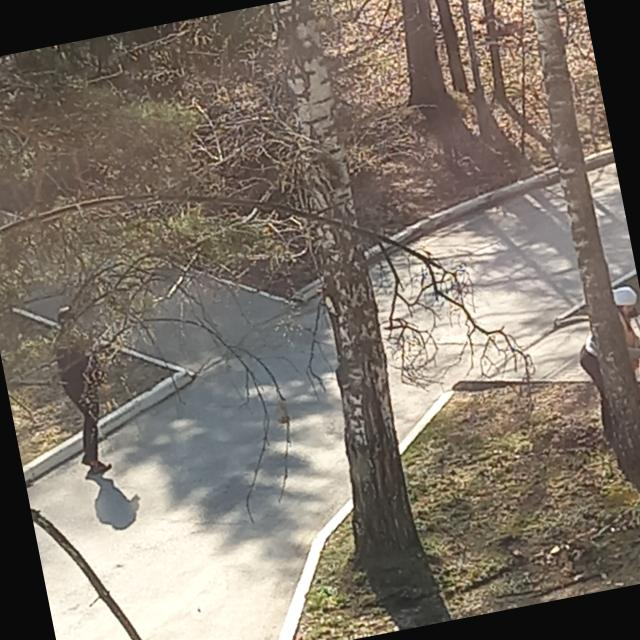person: (46, 300, 124, 478), (567, 282, 640, 444)
